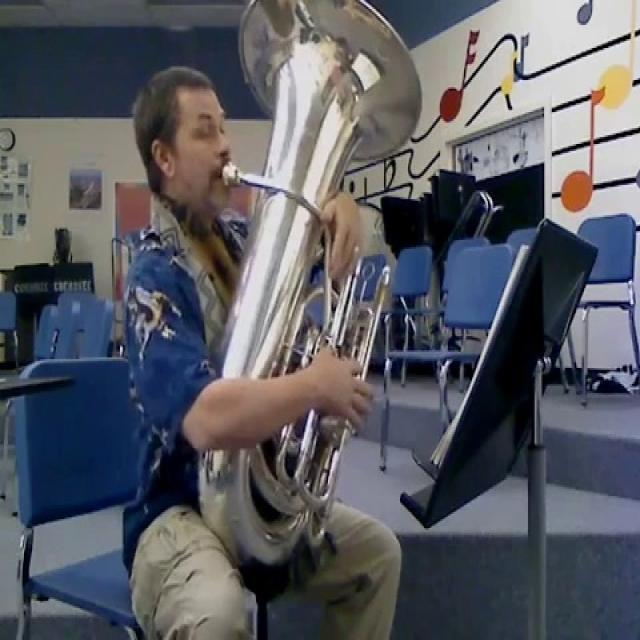Tuba: (172, 4, 445, 603)
